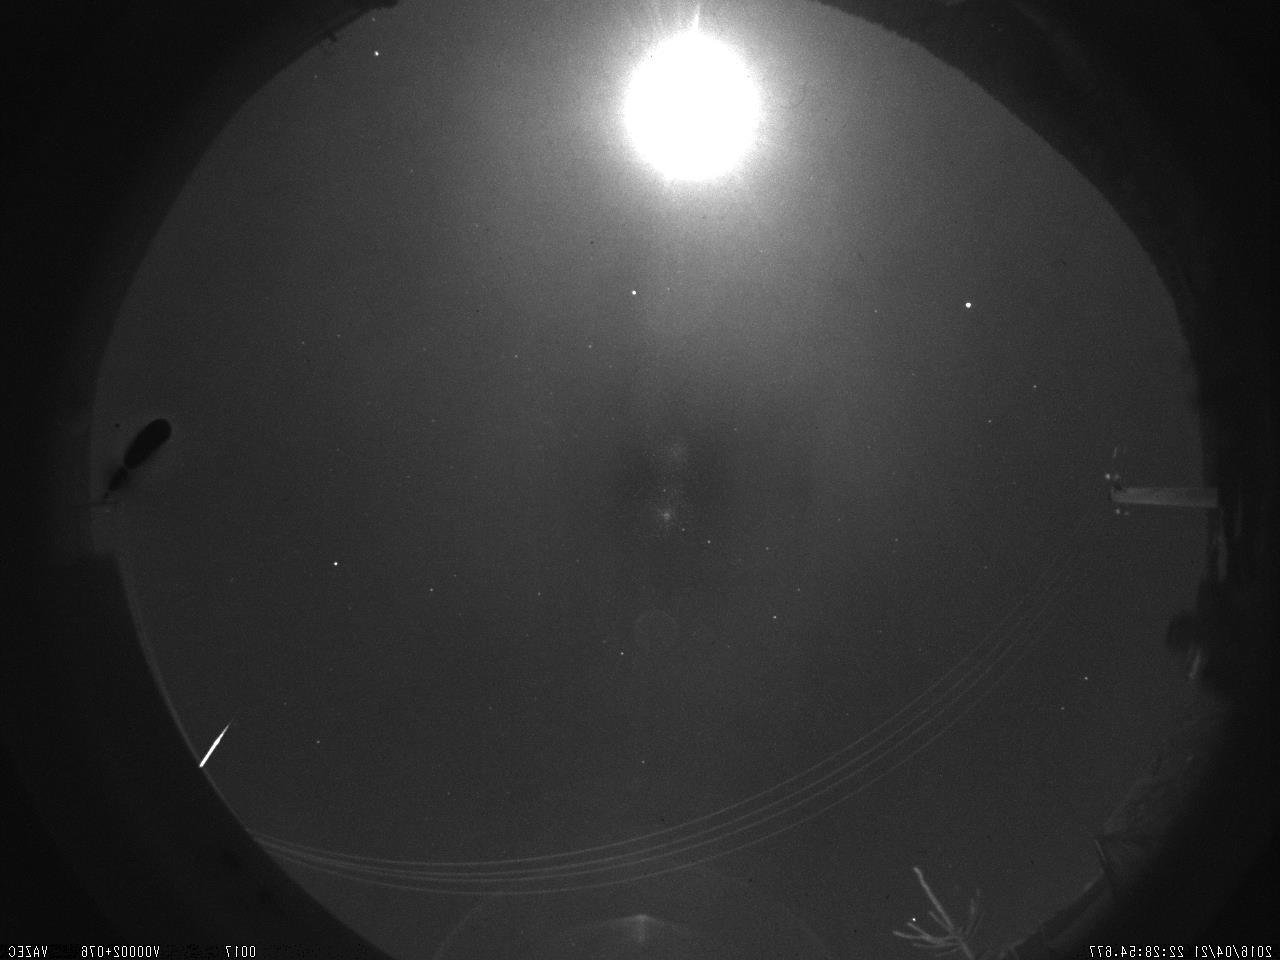meteor: (171, 699, 256, 795)
